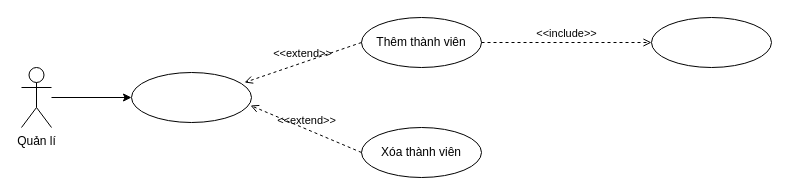
Some shapes in this 789 by 195 pixel diagram are drawn without their labels. Each missing label, with the box of its shape:
Danh sách thành viên: (650, 16, 772, 68)
Quản lí thành viên: (130, 72, 252, 122)
